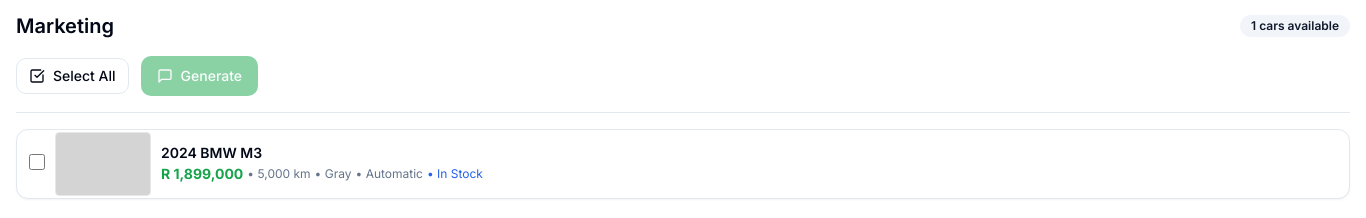
Do Not Advertise Feature › Marketing Component › should not include DNA cars in selection
Click the button "Select All". click: (72, 76)
box: top-left (16, 58), bottom-right (129, 94)
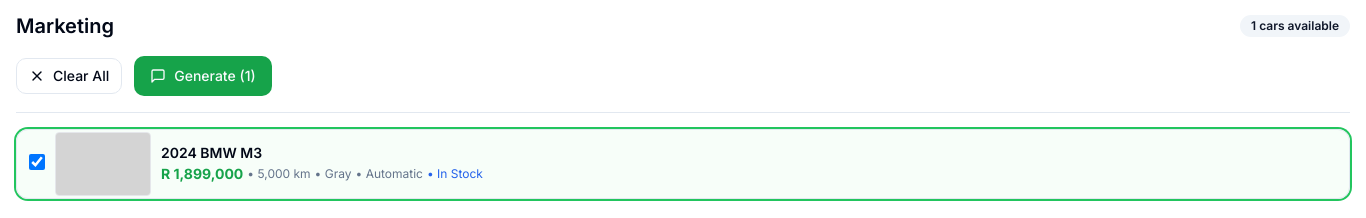
expect the button "Generate (1)" is shown: met, box top-left (134, 56), bottom-right (272, 96)
